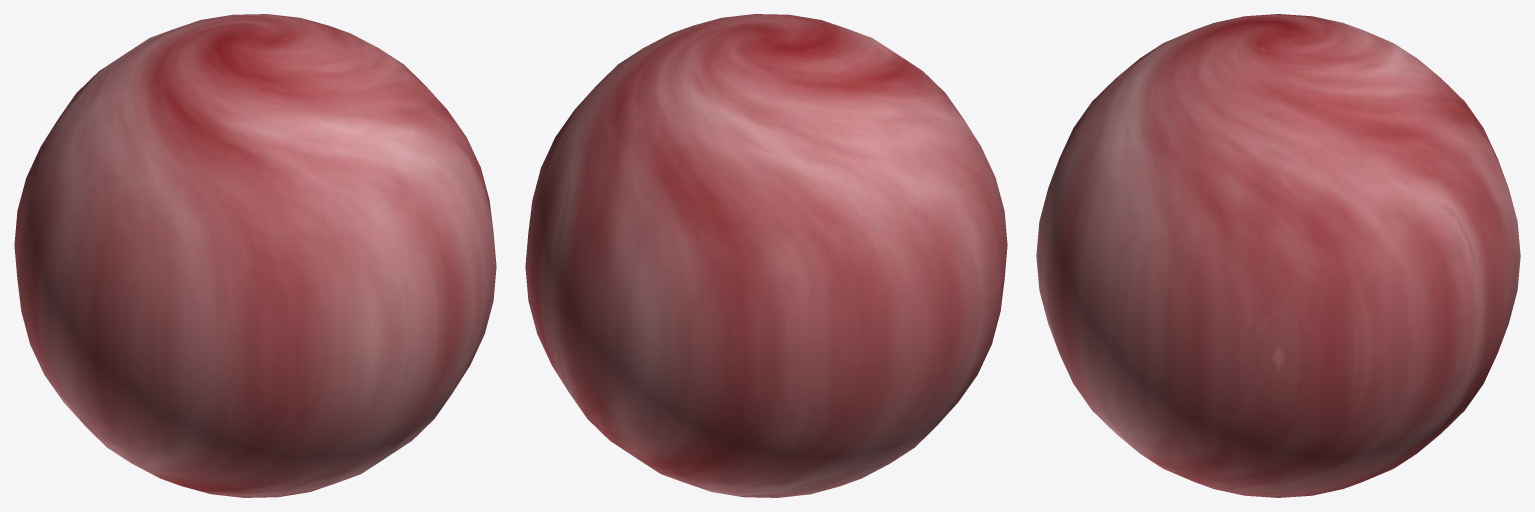
The model's file is BowlingBall.obj.
3 views of the same model, side by side, from view 1: azimuth 30°, elevation 25°; view 2: azimuth 150°, elevation 25°; view 3: azimuth 270°, elevation 25° (orthographic).
Parts seen in each view (by area): view 1: pSphere1; view 2: pSphere1; view 3: pSphere1.
Boxes of the visible parts, <box> form: pSphere1: <box>14,14,496,497</box>; pSphere1: <box>525,14,1007,497</box>; pSphere1: <box>1036,14,1520,497</box>.
Size of the model in its own units: 2 by 2 by 2.
Materials: 1 (1 with a texture image).
